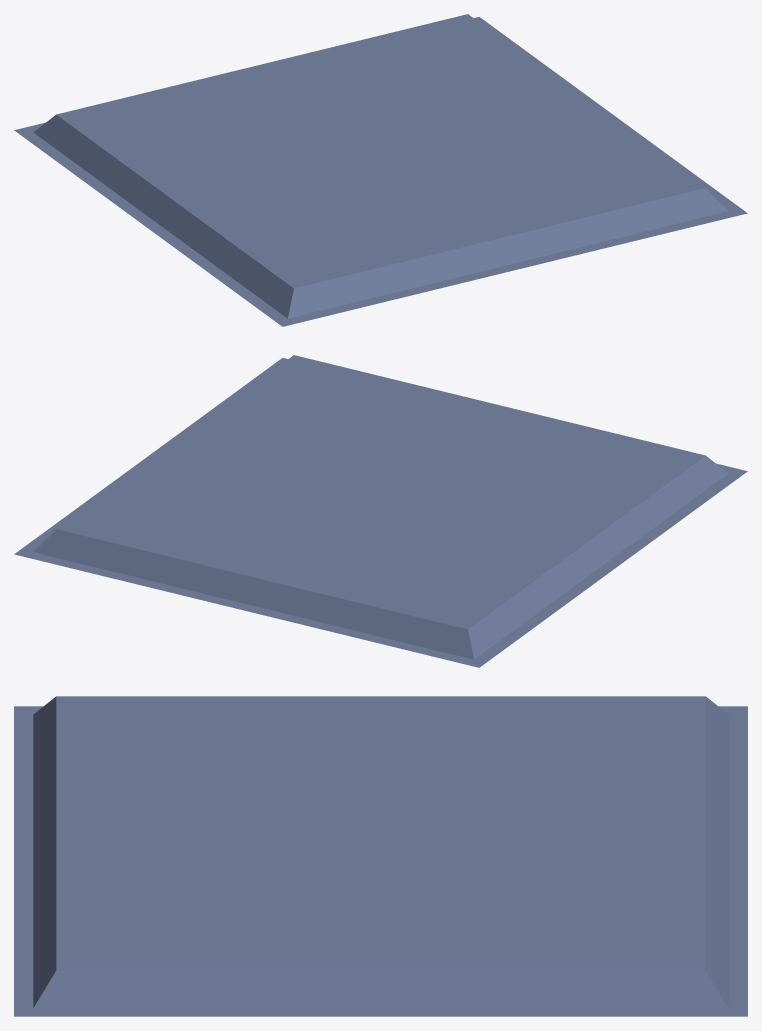
The model's file is piso 5.fbx.
3 views of the same model, one above another, from view 1: azimuth 30°, elevation 25°; view 2: azimuth 150°, elevation 25°; view 3: azimuth 270°, elevation 25° (orthographic). The views are drawn at different scales.
Visible parts, largest first — view 1: tile.001; view 2: tile.001; view 3: tile.001.
Boxes of the visible parts, <box> form: tile.001: <box>14,14,747,326</box>; tile.001: <box>14,355,747,667</box>; tile.001: <box>14,696,747,1016</box>.
Bounding box in the file's own units: 105 × 4.44 × 105.
